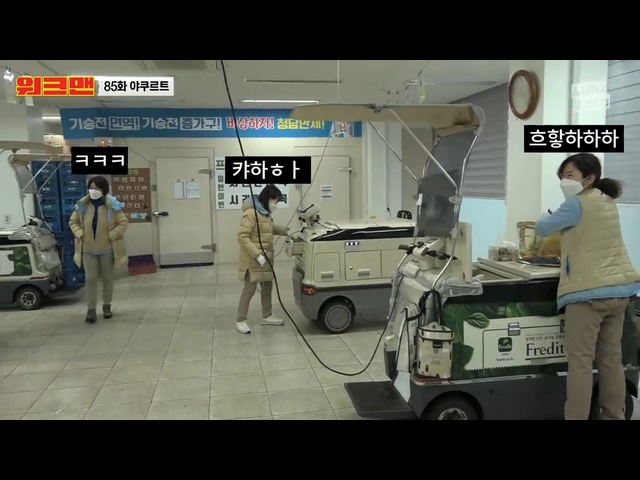Yakurut: (544, 166, 639, 414), (73, 182, 134, 323), (237, 191, 289, 332)
